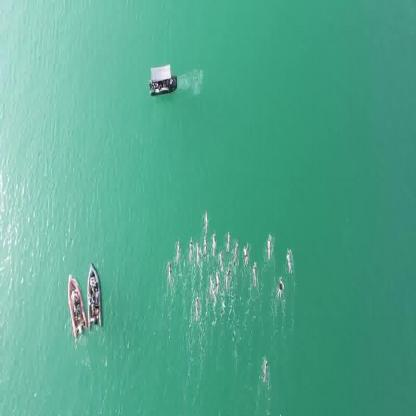Boat: (86, 264, 102, 326), (69, 274, 84, 336)
